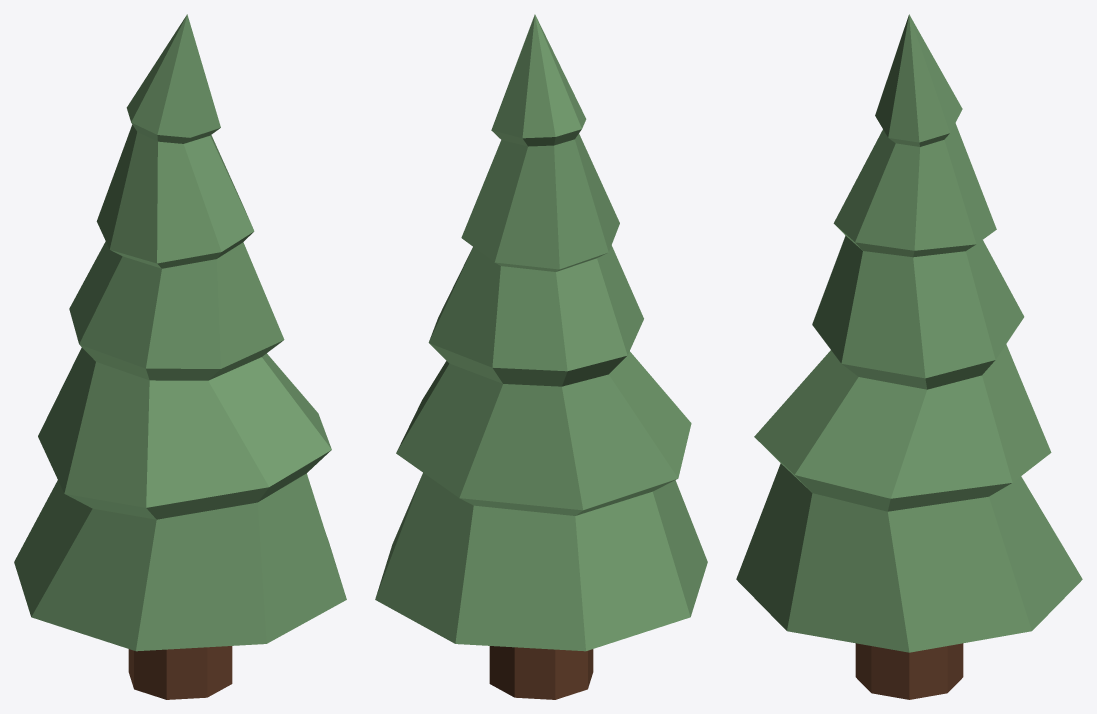
The model's file is tree.glb.
The picture shows the model from 3 angles, left to right: view 1: azimuth 30°, elevation 25°; view 2: azimuth 150°, elevation 25°; view 3: azimuth 270°, elevation 25°; orthographic projection.
Visible parts, largest first — view 1: tree; view 2: tree; view 3: tree.
Boxes of the visible parts, x1,y1,x2,y2 form: tree: (14, 14, 346, 699); tree: (375, 14, 707, 699); tree: (736, 14, 1082, 699).
Size of the model in its own units: 3.9 by 8.26 by 3.9.
